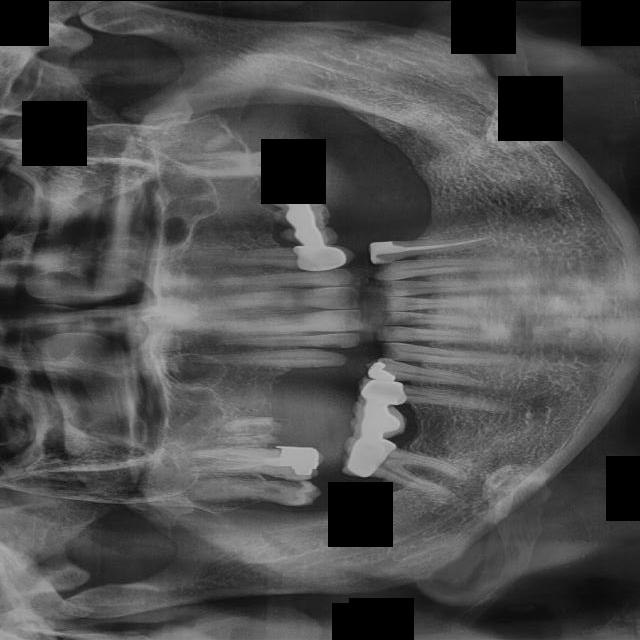72: (214, 413, 287, 444)
74: (405, 236, 489, 251), (222, 462, 265, 470), (227, 452, 266, 459), (220, 457, 264, 462)
NucleOSS Implant: (263, 438, 324, 478), (367, 360, 396, 380)
Sterngold Implant: (267, 476, 307, 489), (379, 340, 397, 361), (313, 341, 341, 347), (272, 470, 289, 478)
Straumann Implant: (367, 238, 407, 264)
Zimmer Implant: (262, 132, 321, 187), (339, 429, 398, 482), (347, 397, 411, 441), (264, 174, 324, 211), (273, 201, 333, 231), (357, 376, 408, 407), (291, 245, 350, 269), (280, 224, 340, 246)
